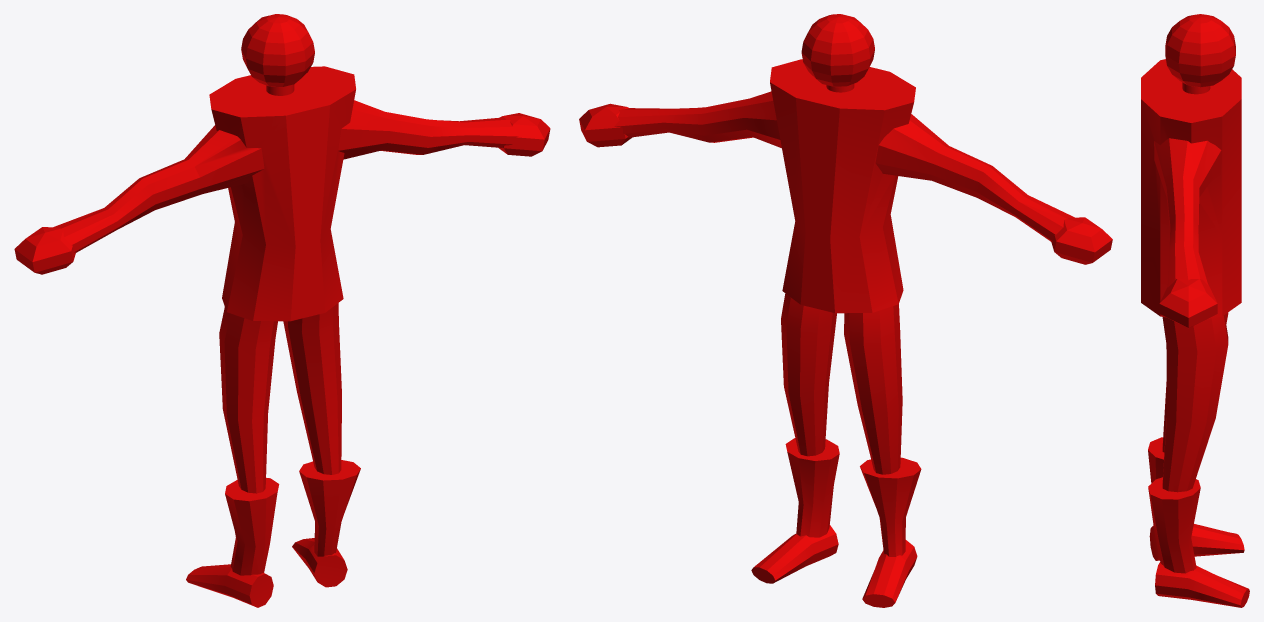
Rendered from Enemy-middle.fbx.
The picture shows the model from 3 angles, left to right: view 1: azimuth 30°, elevation 25°; view 2: azimuth 150°, elevation 25°; view 3: azimuth 270°, elevation 25°; orthographic projection.
Parts seen in each view (by area): view 1: polySurface9; view 2: polySurface9; view 3: polySurface9.
Part boxes in pixels (<box>): polySurface9: <box>14,14,550,607</box>; polySurface9: <box>579,14,1112,607</box>; polySurface9: <box>1141,14,1249,607</box>.
Size of the model in its own units: 3.16 by 3.23 by 0.5679.
